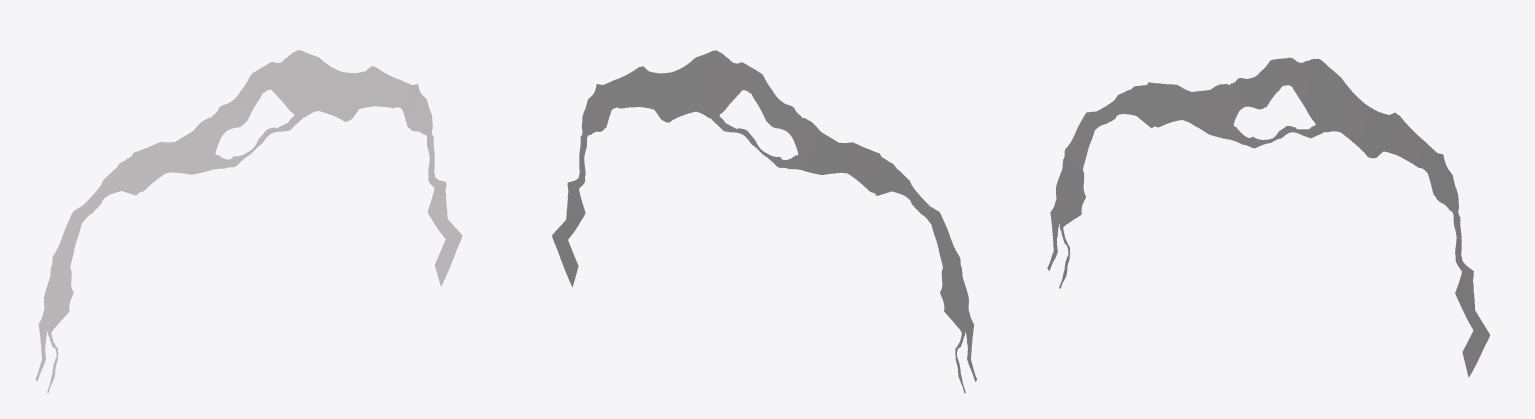
The model's file is S_Bolt.fbx.
3 renders of one model, left to right at view 1: azimuth 30°, elevation 25°; view 2: azimuth 150°, elevation 25°; view 3: azimuth 330°, elevation 25°, orthographic. The views are drawn at different scales.
Visible parts, largest first — view 1: S_Bolt; view 2: S_Bolt; view 3: S_Bolt.
Part boxes in pixels (<box>): S_Bolt: <box>35,50,462,393</box>; S_Bolt: <box>552,50,976,393</box>; S_Bolt: <box>1047,57,1489,377</box>.
Size of the model in its own units: 1.9 by 1.25 by 0.0135.
